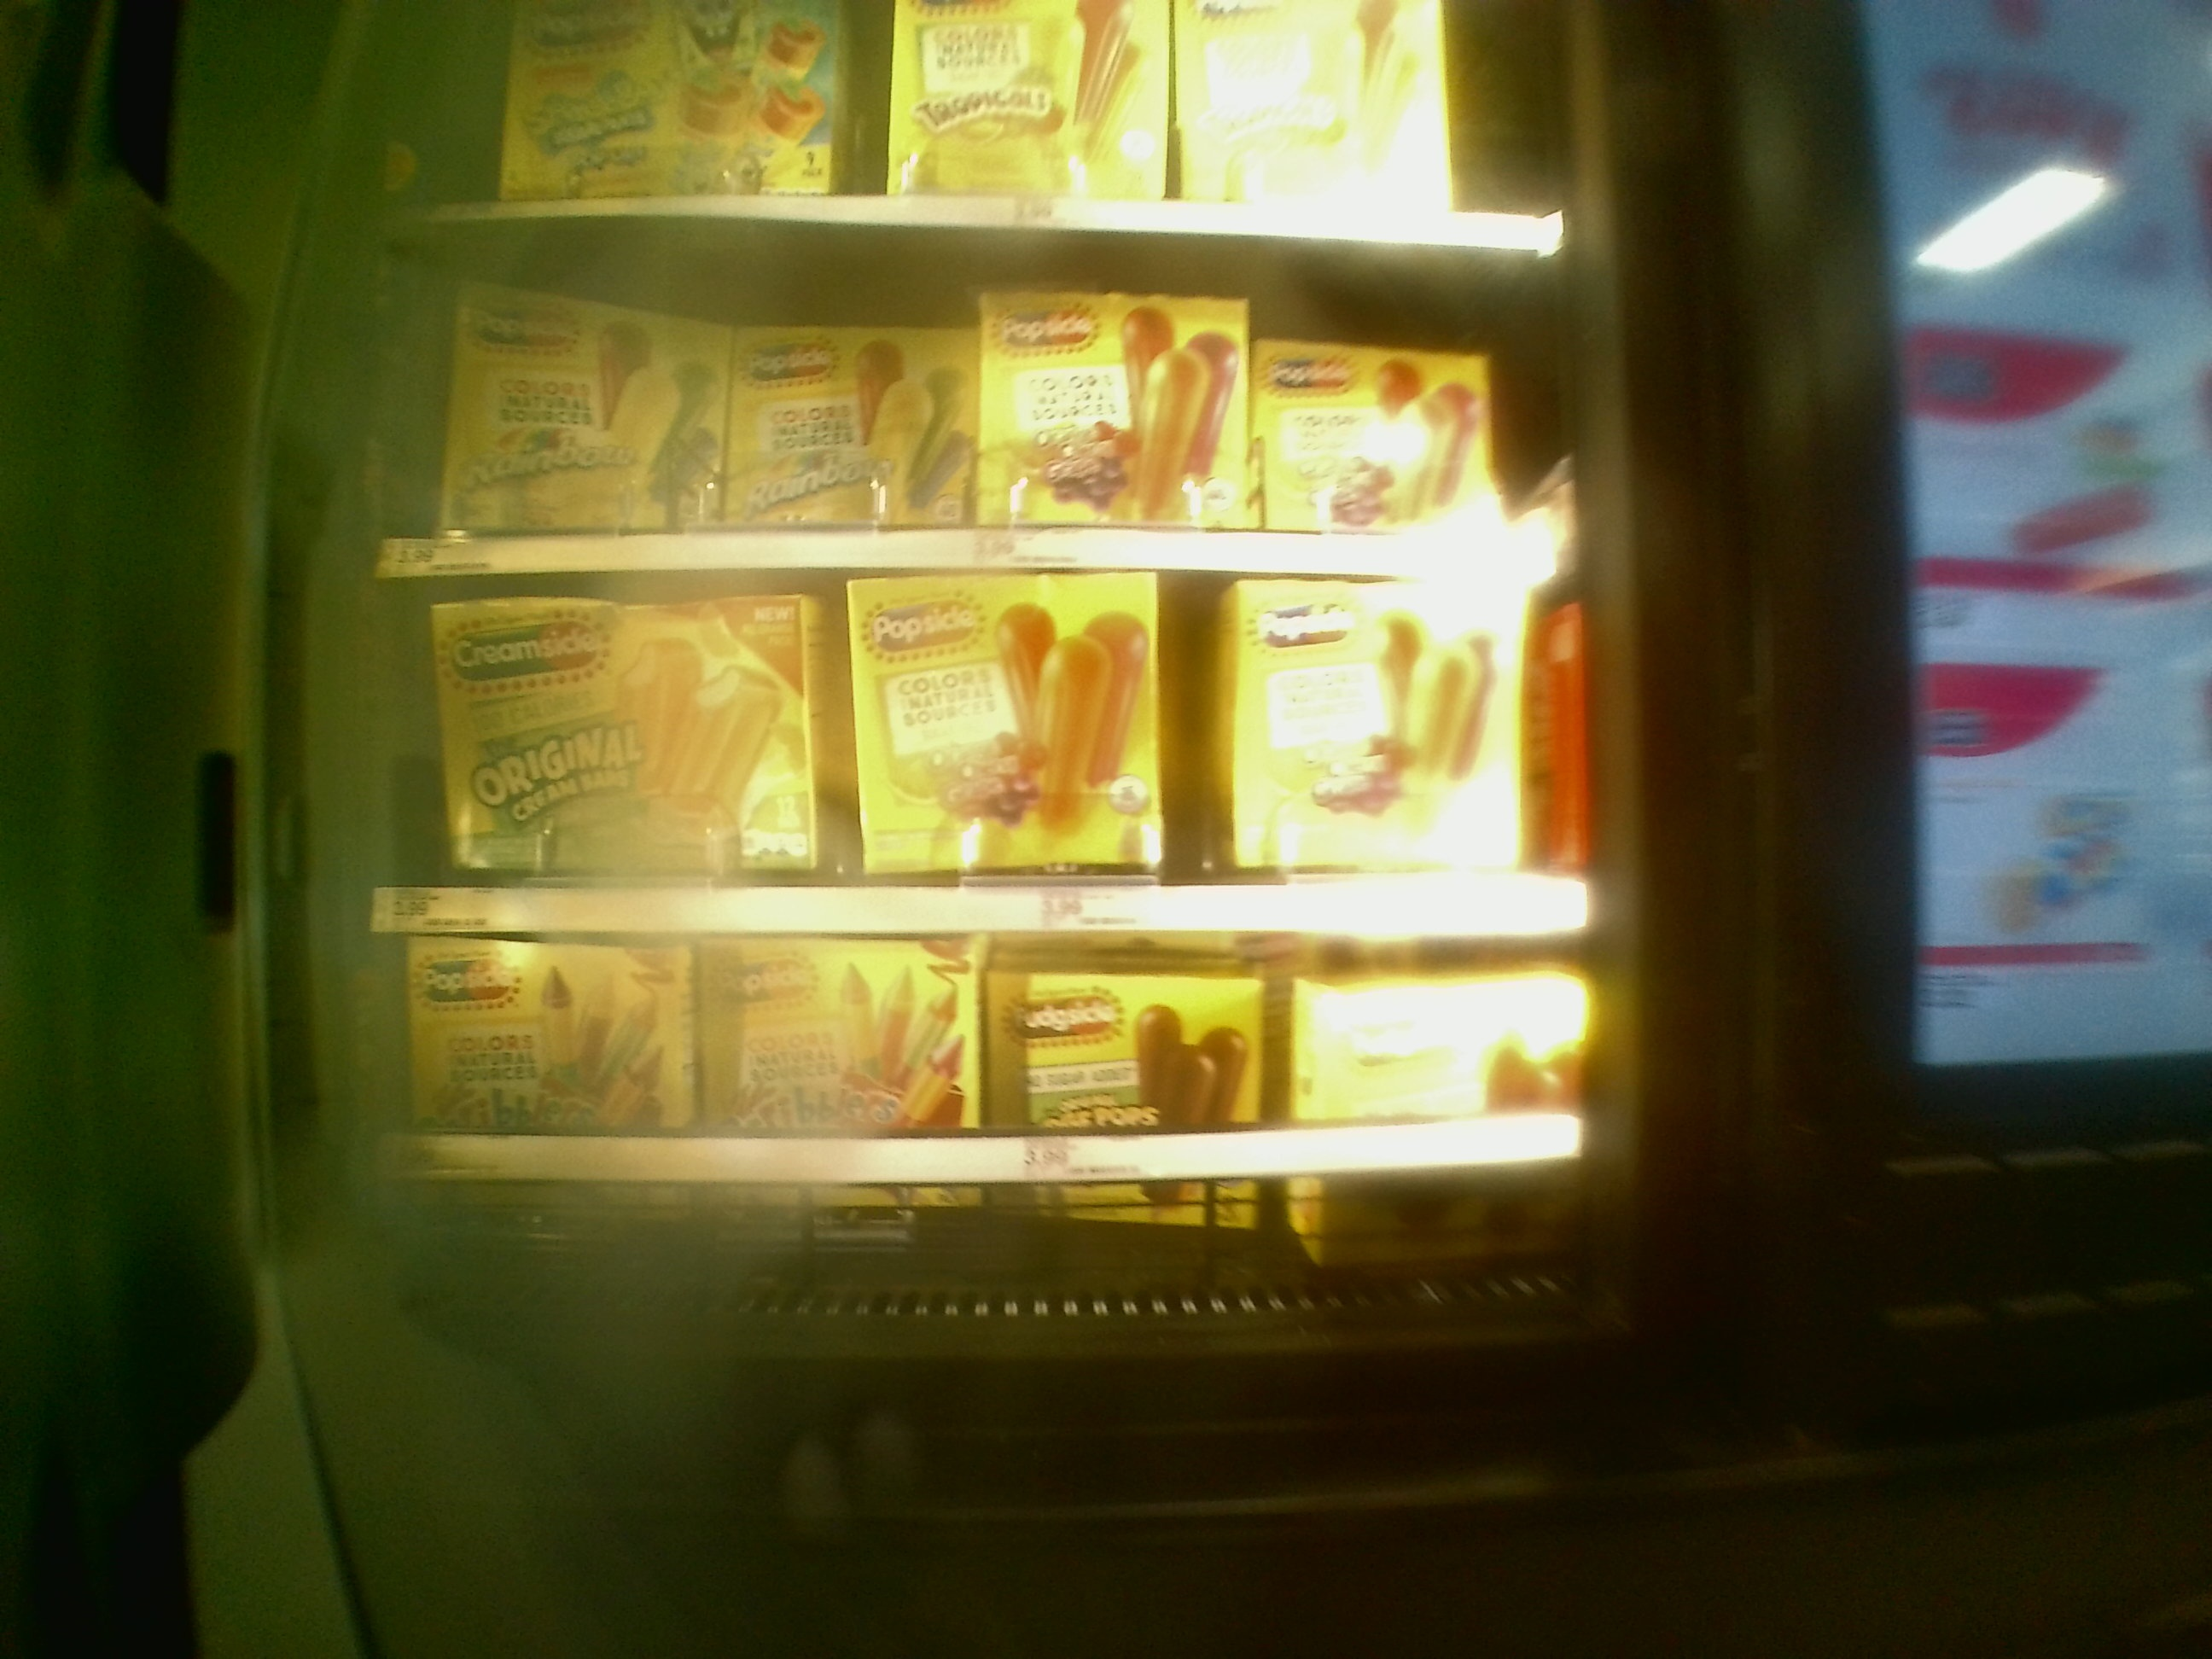frozen-food-shelf: (359, 575, 1581, 938), (364, 244, 1575, 579), (359, 938, 1588, 1180)
